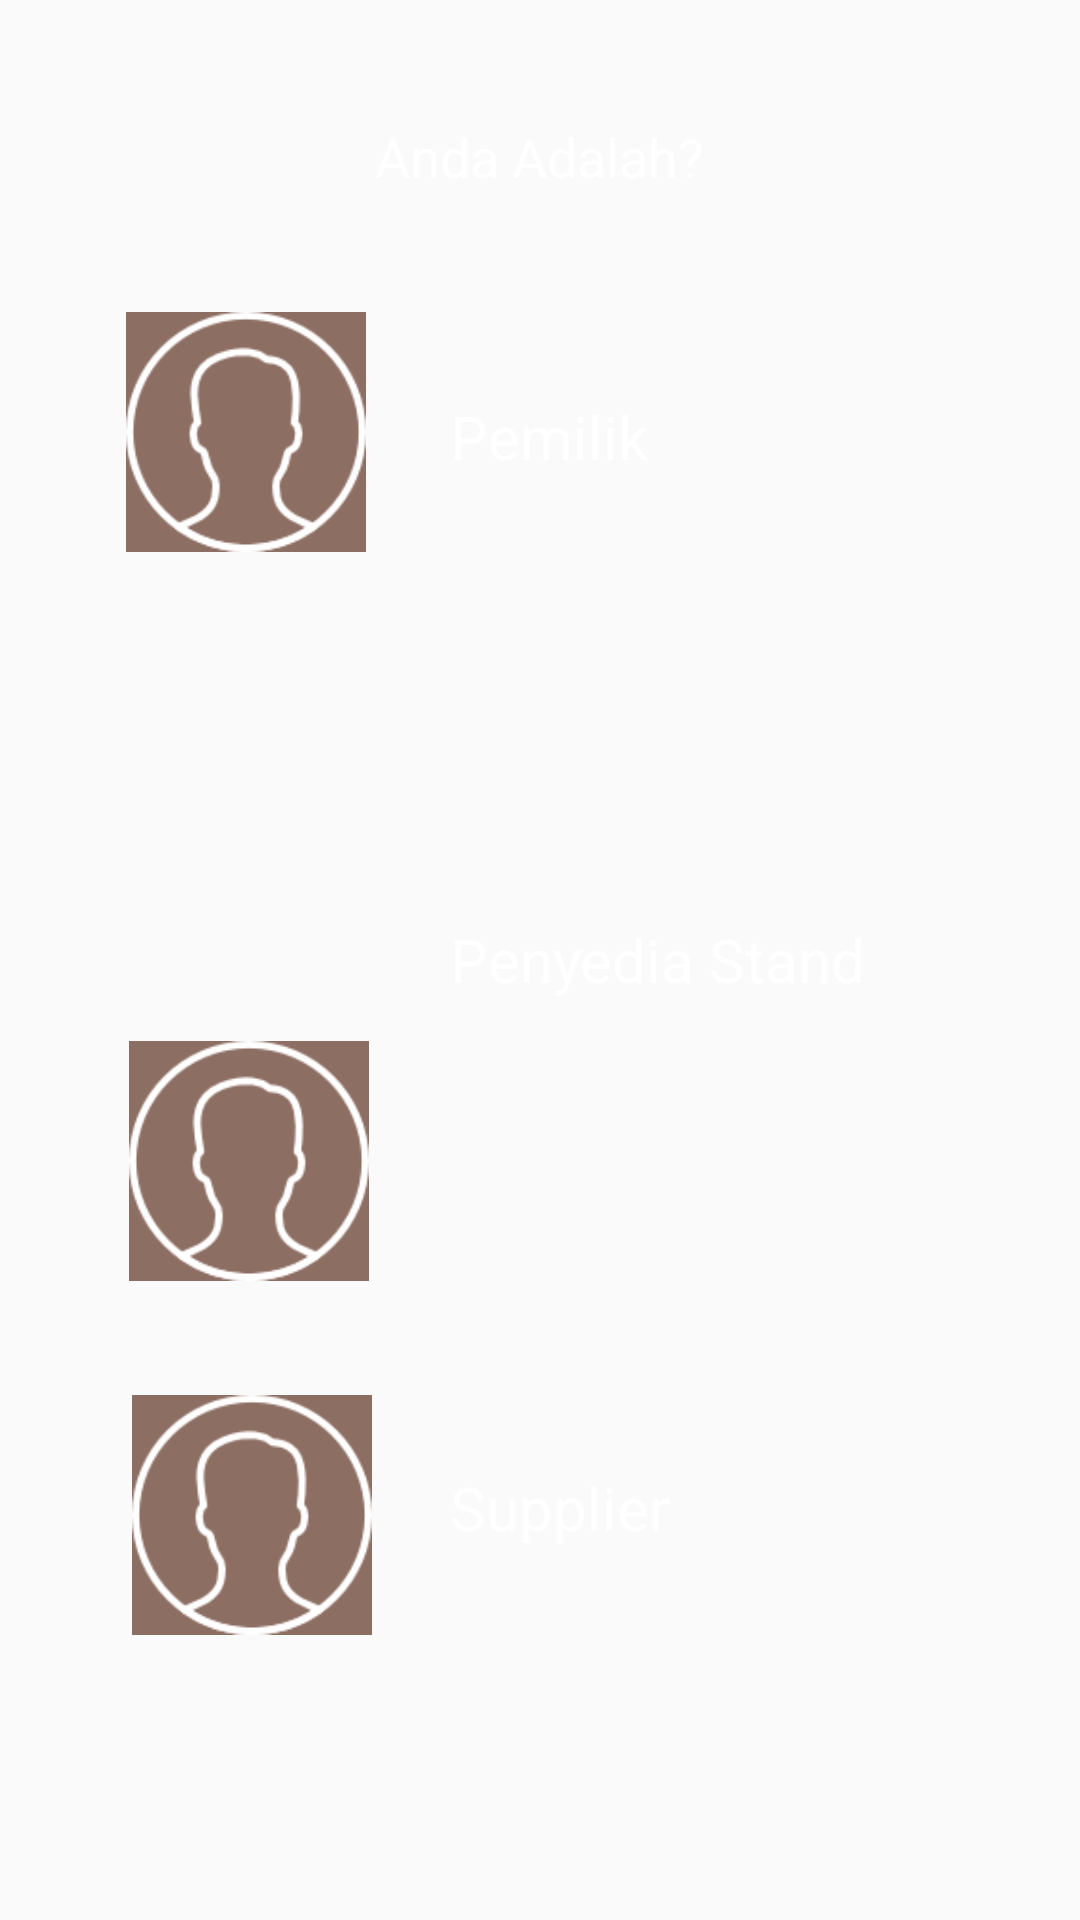

Icons on this 1080w x 1920h Android screen, each with the point to tap as [x,y]:
man: [246,432], [249,1161], [252,1515]
